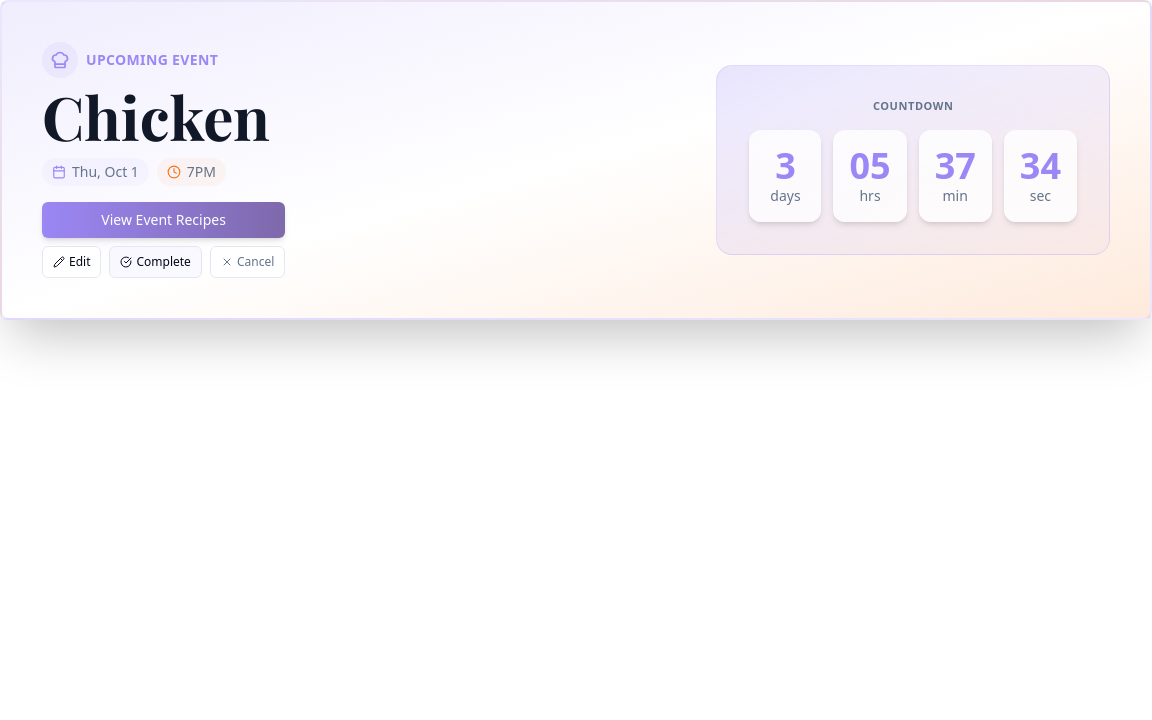
Test: CountdownCard › shows error when edit has no date selected
The image size is (1152, 720).
Click the button "Edit": (72,262) [42,246,102,278]
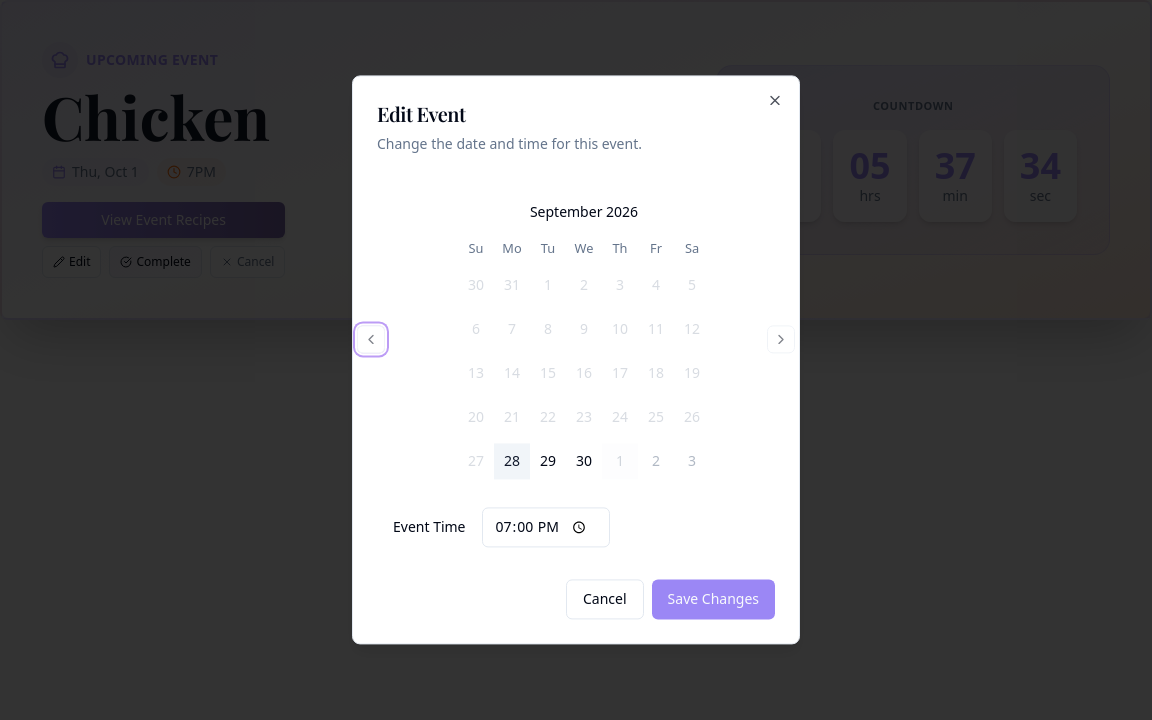
Now the button "Save Changes" is shown, box [652,580,775,620]
